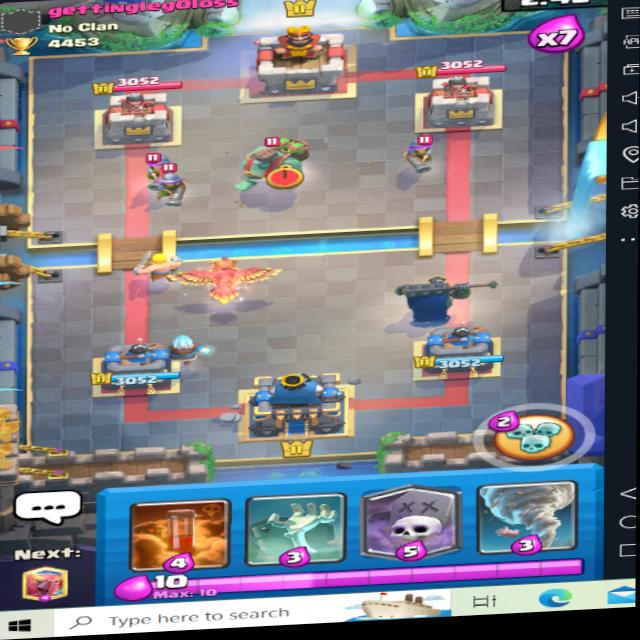Goblingiant: (229, 131, 312, 196)
Musketeer: (388, 125, 444, 172), (135, 148, 194, 190), (151, 162, 201, 207)
